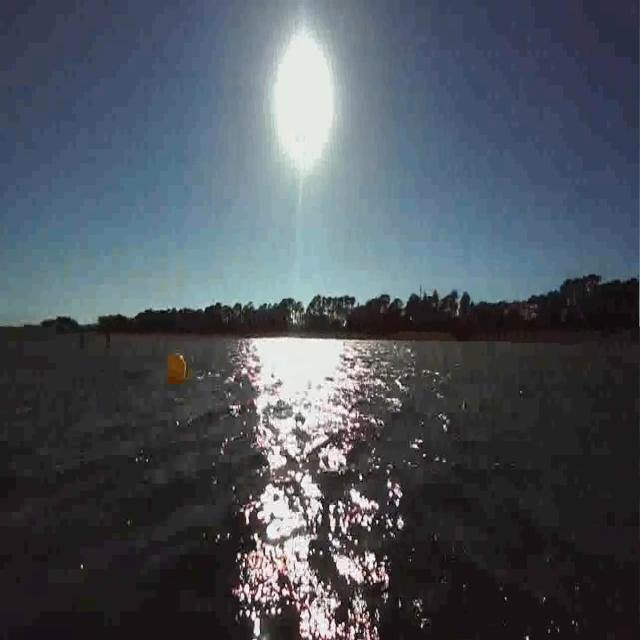yellow-buoy: (166, 348, 194, 386)
